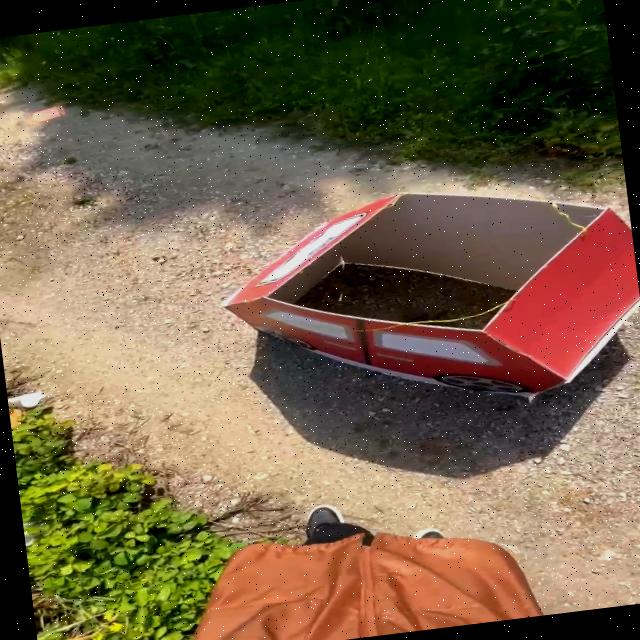red_car: (187, 145, 640, 448)
